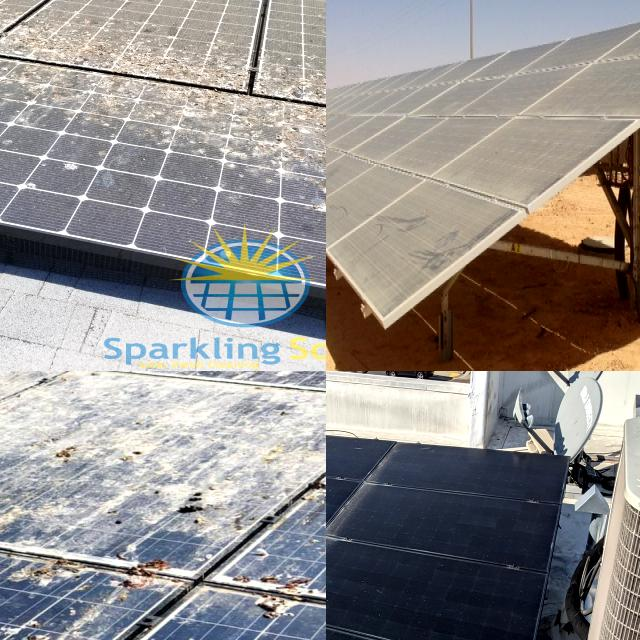bird: (14, 404, 110, 494), (220, 552, 316, 635), (0, 371, 86, 454), (133, 472, 216, 548), (0, 22, 135, 60), (0, 594, 102, 640), (75, 79, 151, 127), (0, 371, 47, 447), (190, 102, 265, 148), (0, 546, 49, 612), (148, 48, 248, 80), (0, 68, 62, 116), (264, 56, 326, 96), (286, 108, 326, 166), (40, 146, 100, 184), (0, 0, 49, 37), (296, 173, 326, 221), (2, 128, 43, 152), (0, 0, 33, 22)
dust: (334, 565, 511, 623), (366, 178, 436, 293), (482, 85, 558, 178), (380, 503, 532, 546), (370, 88, 444, 162), (326, 595, 404, 640), (326, 526, 390, 578), (326, 114, 348, 208), (326, 473, 382, 509), (587, 66, 640, 96)
